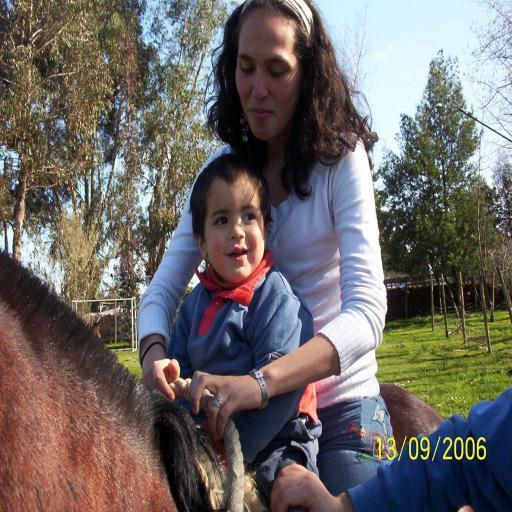horse: (0, 244, 474, 512)
